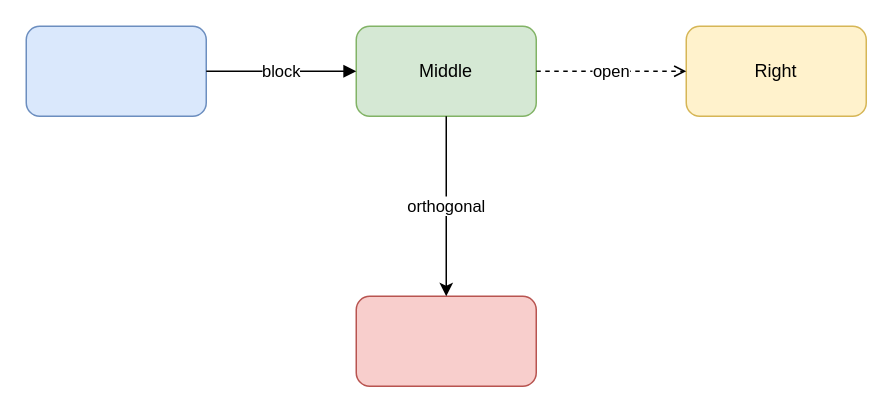
The diagram is 893 pixels wide and 413 high, and some of its shapes have lost their labels. Each missing label, with the centre of its shape:
"Bottom" belongs at point 445,340.
"Left" belongs at point 115,70.
